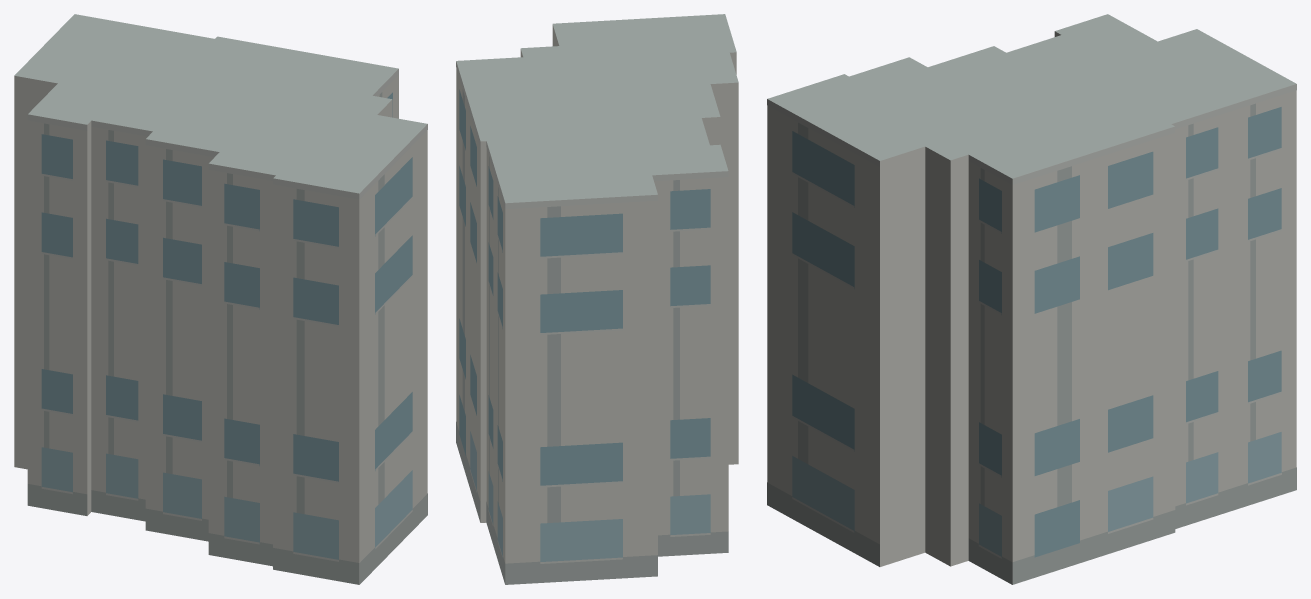
Rendered from survey-upis-32787909.glb.
The picture shows the model from 3 angles, left to right: view 1: azimuth 30°, elevation 25°; view 2: azimuth 150°, elevation 25°; view 3: azimuth 270°, elevation 25°; orthographic projection. The views are drawn at different scales.
Visible parts, largest first — view 1: survey-upis-32787909.tmp; view 2: survey-upis-32787909.tmp; view 3: survey-upis-32787909.tmp.
Boxes of the visible parts, <box> form: survey-upis-32787909.tmp: <box>14,14,427,584</box>; survey-upis-32787909.tmp: <box>456,14,738,584</box>; survey-upis-32787909.tmp: <box>767,14,1296,584</box>.
Size of the model in its own units: 13.23 by 15.2 by 17.97.
